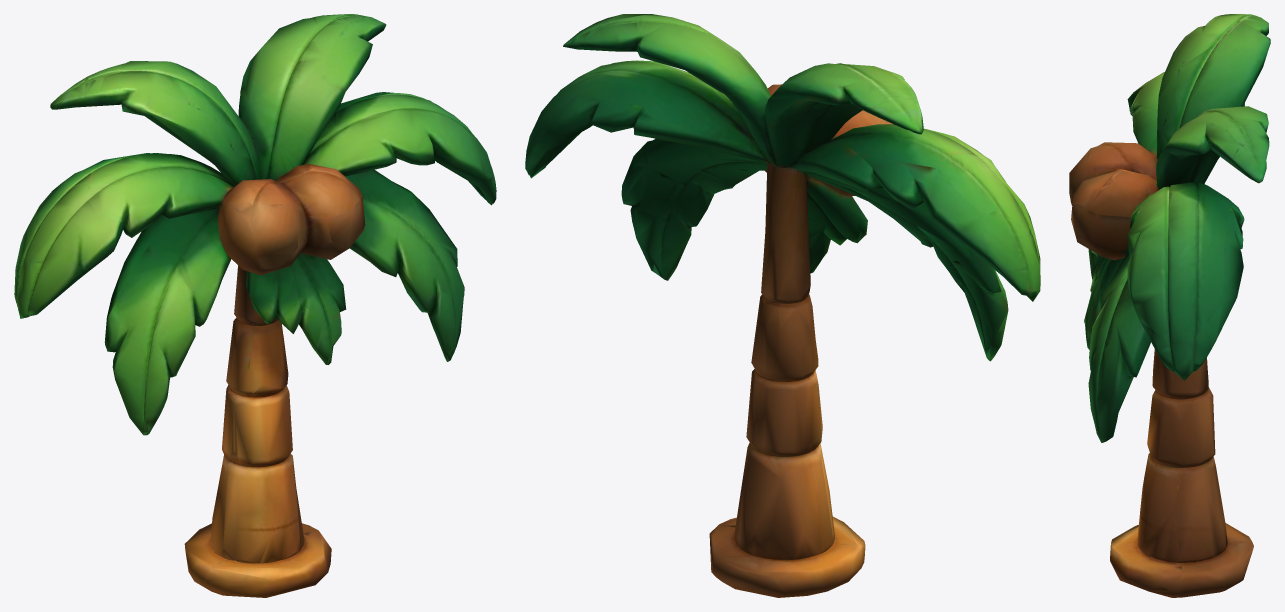
Rendered from palm_pbr.glb.
3 views of the same model, side by side, from view 1: azimuth 30°, elevation 25°; view 2: azimuth 150°, elevation 25°; view 3: azimuth 270°, elevation 25° (orthographic). The views are drawn at different scales.
Visible parts, largest first — view 1: model; view 2: model; view 3: model.
Part boxes in pixels (left/top/right/bottom): model: left=14, top=14, right=496, bottom=597; model: left=525, top=14, right=1040, bottom=597; model: left=1069, top=14, right=1270, bottom=597.
Size of the model in its own units: 1.77 by 1.83 by 0.6625.
1 material, 1 textured.
